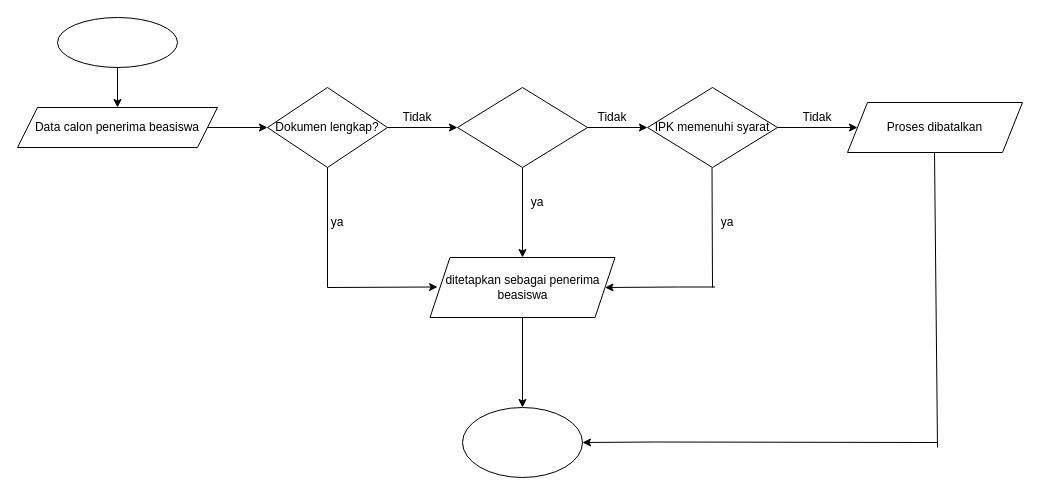
Some shapes in this 1040 by 495 pixel diagram are drawn without their labels. Here are the shapes that lost their labels. From the top down, the centre of each, then its label:
At point (117, 42): "Mulai".
At point (522, 127): "Lolos seleksi?".
At point (522, 442): "Selesai".
